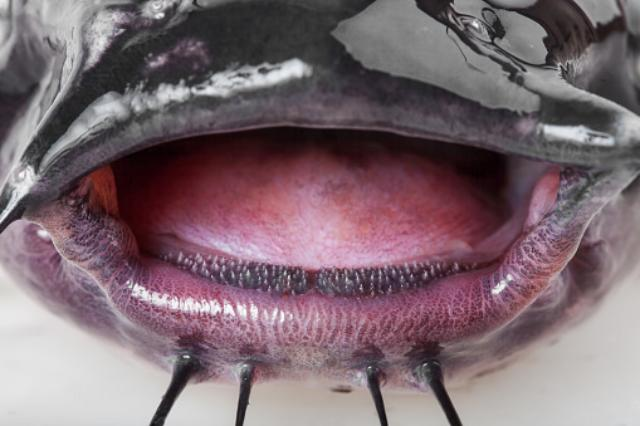Mulut: (14, 42, 636, 382)
